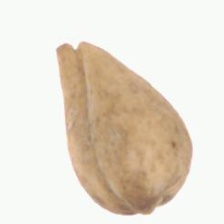L1: (115, 197, 177, 217), (54, 39, 86, 63)
L2: (55, 41, 194, 217)
